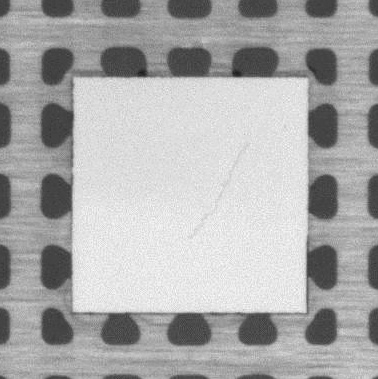DIE_CRACK: (187, 143, 250, 239)
